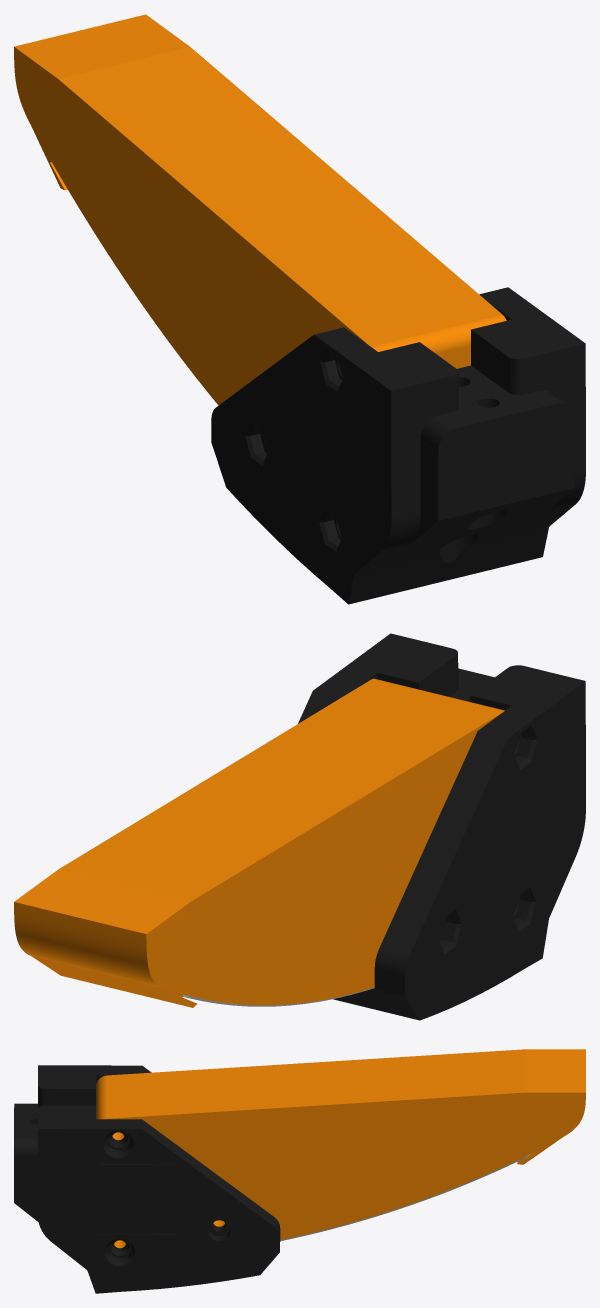
The model's file is right_gripper_finger_link2.obj.
3 renders of one model, top to bottom at view 1: azimuth 30°, elevation 25°; view 2: azimuth 150°, elevation 25°; view 3: azimuth 270°, elevation 25°, orthographic. The views are drawn at different scales.
Visible parts, largest first — view 1: Body3, Body2; view 2: Body3, Body2; view 3: Body3, Body2, Body1.
Boxes of the visible parts, x1=… form: Body3: x1=14, y1=14, x2=506, y2=405; Body2: x1=211, y1=287, x2=585, y2=604; Body3: x1=14, y1=678, x2=504, y2=1007; Body2: x1=298, y1=633, x2=585, y2=1020; Body3: x1=96, y1=1049, x2=585, y2=1248; Body2: x1=14, y1=1065, x2=280, y2=1293; Body1: x1=280, y1=1154, x2=530, y2=1241.
Size of the model in its own units: 0.038 by 0.053 by 0.144.
